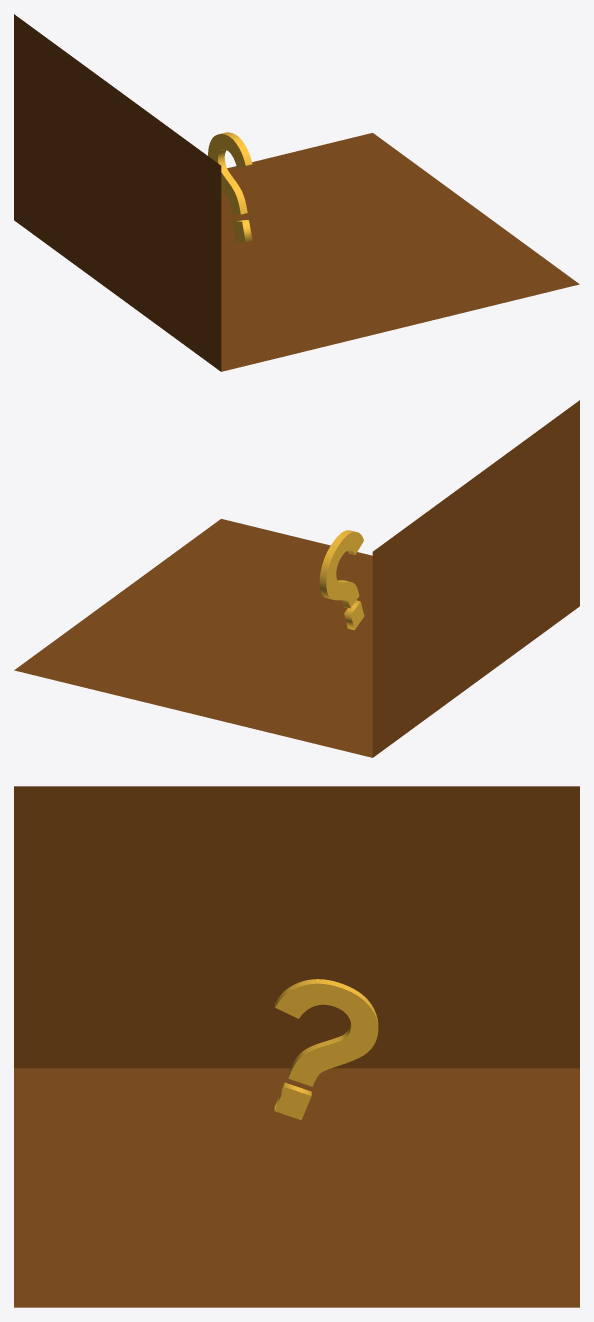
The model's file is petunjuk.glb.
3 views of the same model, one above another, from view 1: azimuth 30°, elevation 25°; view 2: azimuth 150°, elevation 25°; view 3: azimuth 270°, elevation 25° (orthographic). The views are drawn at different scales.
Visible parts, largest first — view 1: Plane, question; view 2: Plane, question; view 3: Plane, question.
Boxes of the visible parts, left/top/right/bottom form: Plane: left=14, top=14, right=579, bottom=371; question: left=208, top=132, right=252, bottom=242; Plane: left=14, top=400, right=579, bottom=757; question: left=319, top=530, right=364, bottom=630; Plane: left=14, top=786, right=579, bottom=1307; question: left=274, top=979, right=378, bottom=1120.
Size of the model in its own units: 8 by 4.39 by 8.
